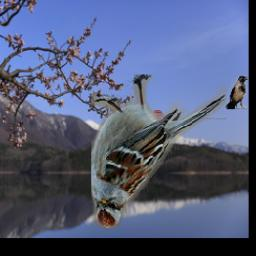Crow: (225, 75, 248, 109)
Sparrow: (92, 74, 228, 229)
